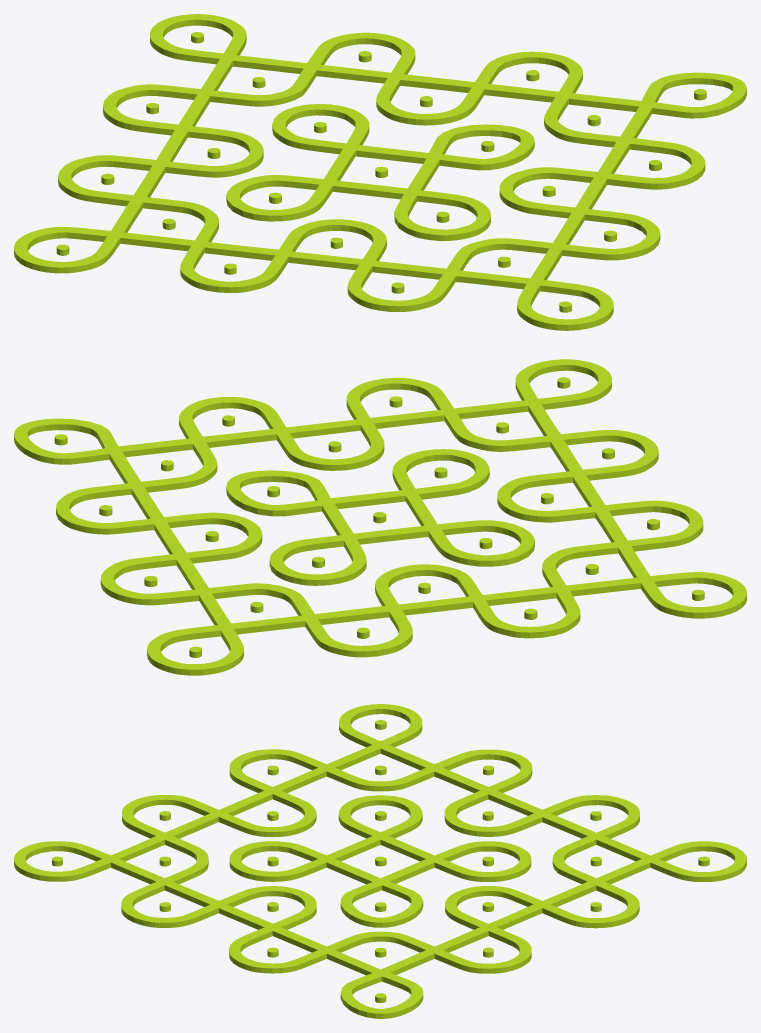
3 views of the same model, one above another, from view 1: azimuth 30°, elevation 25°; view 2: azimuth 150°, elevation 25°; view 3: azimuth 270°, elevation 25° (orthographic). The views are drawn at different scales.
Visible parts, largest first — view 1: stl_line_rhombus1.001; view 2: stl_line_rhombus1.001; view 3: stl_line_rhombus1.001.
Part boxes in pixels (x1,y1,x2,y2): stl_line_rhombus1.001: (14,14,746,330); stl_line_rhombus1.001: (14,359,746,675); stl_line_rhombus1.001: (14,704,746,1018).
Bounding box in the file's own units: 257 × 2 × 257.
